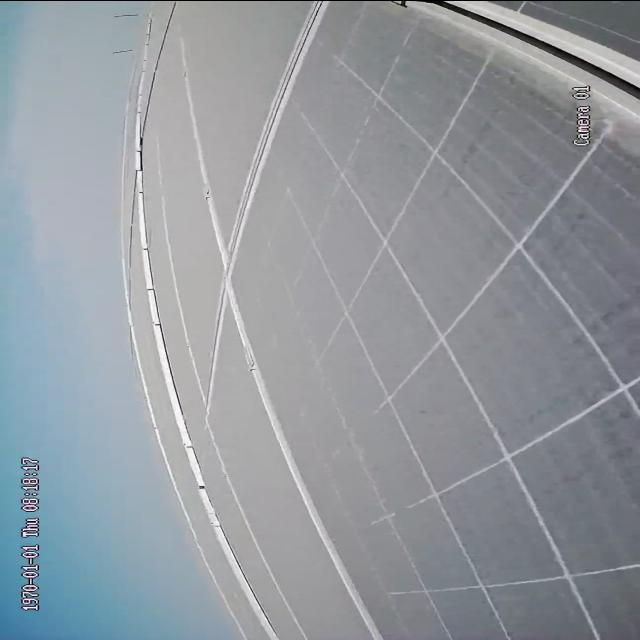interior panel: (217, 2, 391, 639), (390, 0, 640, 134)
